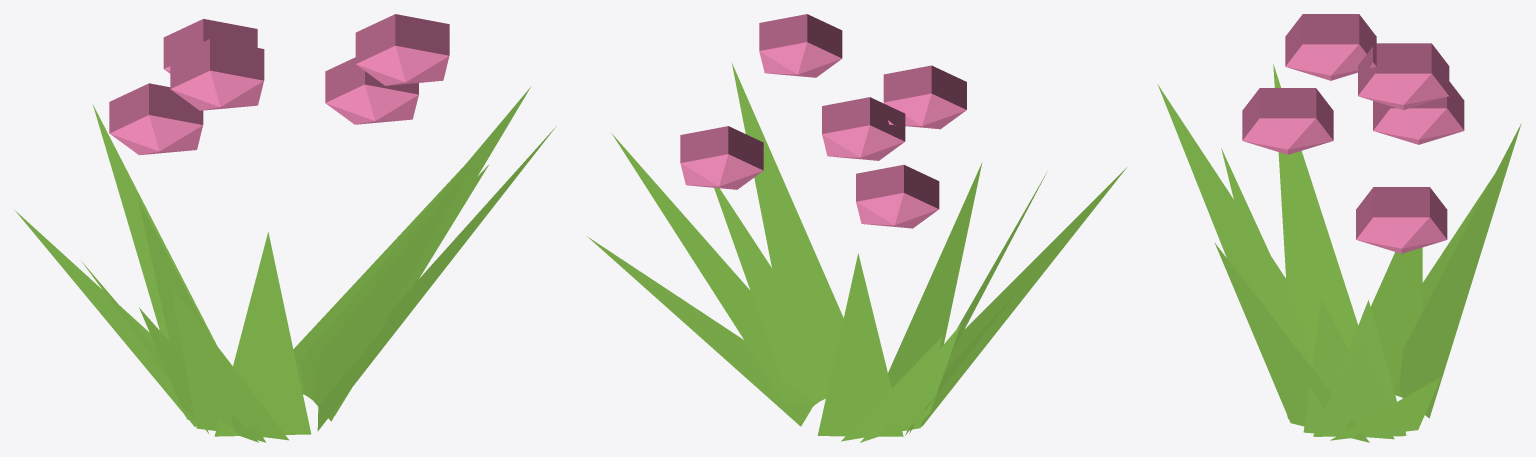
The picture shows the model from 3 angles, left to right: view 1: azimuth 30°, elevation 25°; view 2: azimuth 150°, elevation 25°; view 3: azimuth 270°, elevation 25°; orthographic projection. The views are drawn at different scales.
Parts seen in each view (by area): view 1: flowers-pink; view 2: flowers-pink; view 3: flowers-pink.
Boxes of the visible parts, left/top/right/bottom form: flowers-pink: left=14, top=14, right=556, bottom=442; flowers-pink: left=587, top=14, right=1126, bottom=442; flowers-pink: left=1157, top=14, right=1521, bottom=442.
Bounding box in the file's own units: 0.5618 × 0.4464 × 0.3944.
